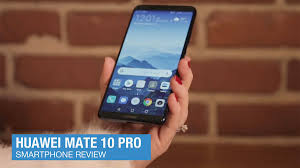huawei: (95, 3, 205, 126)
